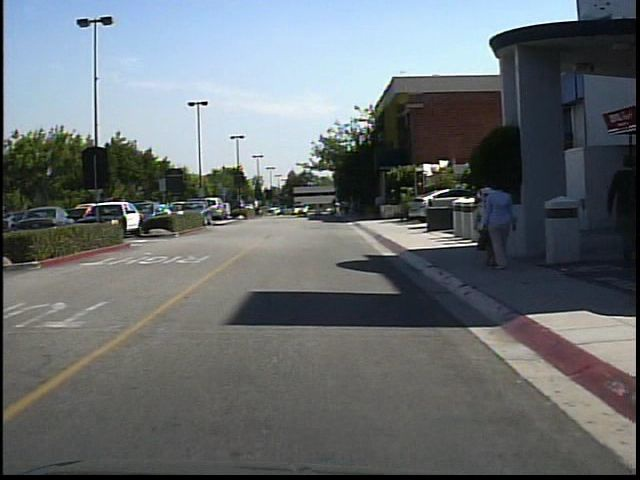person: (601, 147, 635, 269), (482, 176, 516, 271), (472, 177, 495, 272), (251, 193, 264, 220), (332, 197, 346, 222)
